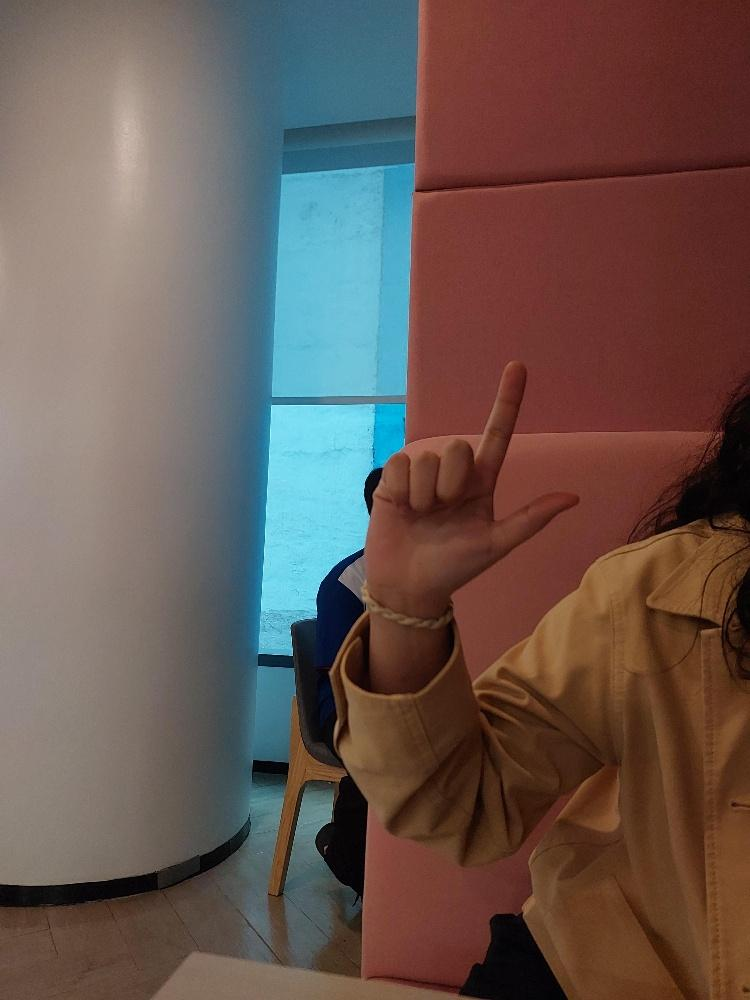l: (360, 350, 588, 619)
